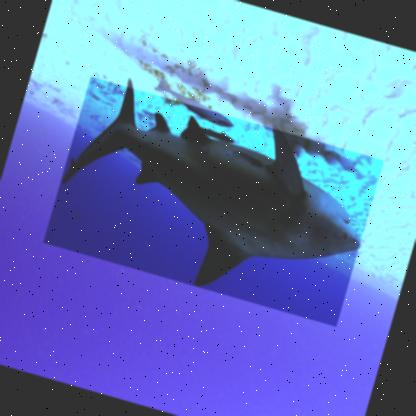bulldog-shark: (42, 74, 384, 326)
